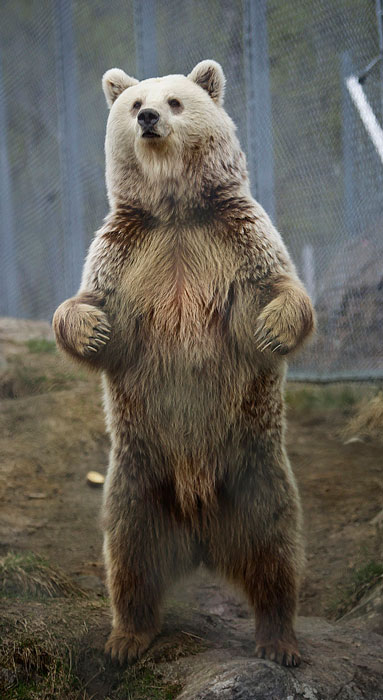bear: (96, 56, 254, 207)
